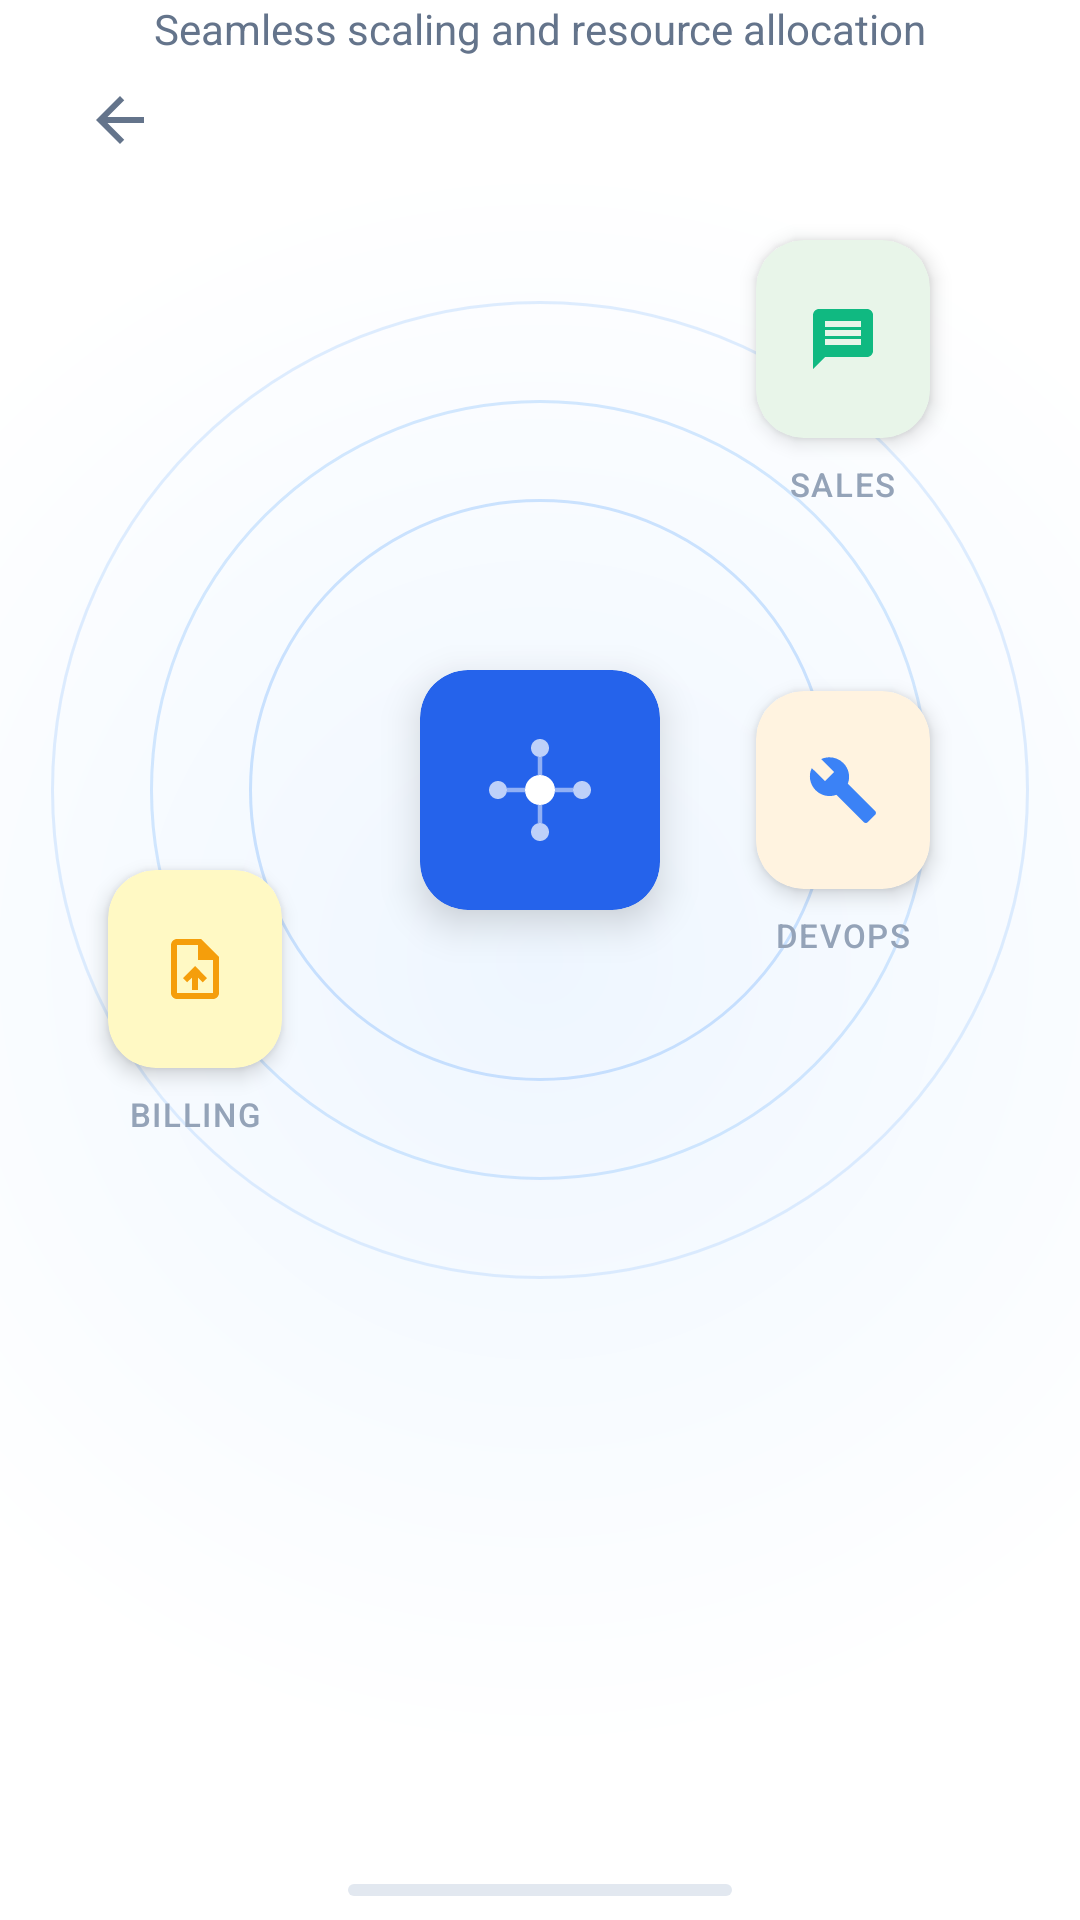

Icon click points for this 1080w x 1920h phone screenshot, format (x,y):
Network connectivity icon: (540,790)
